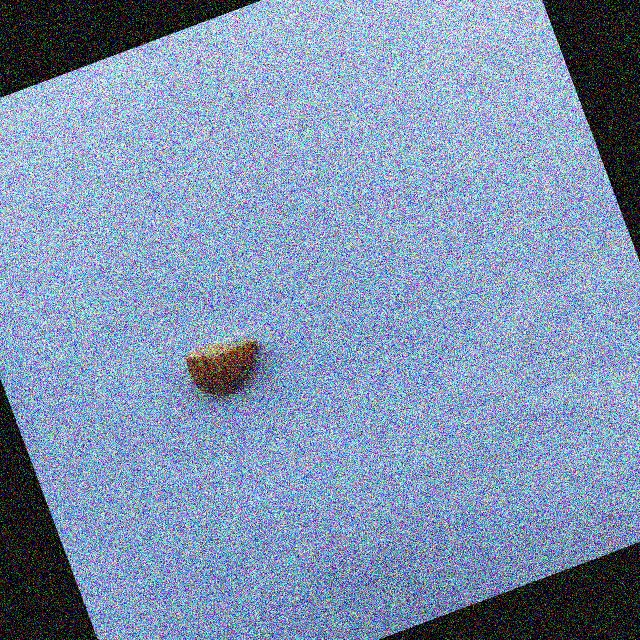grade4: (174, 320, 281, 411)
